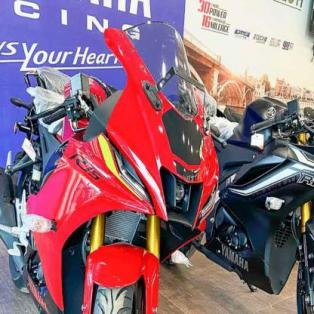Motocicleta: (2, 17, 221, 314), (221, 85, 314, 313)
